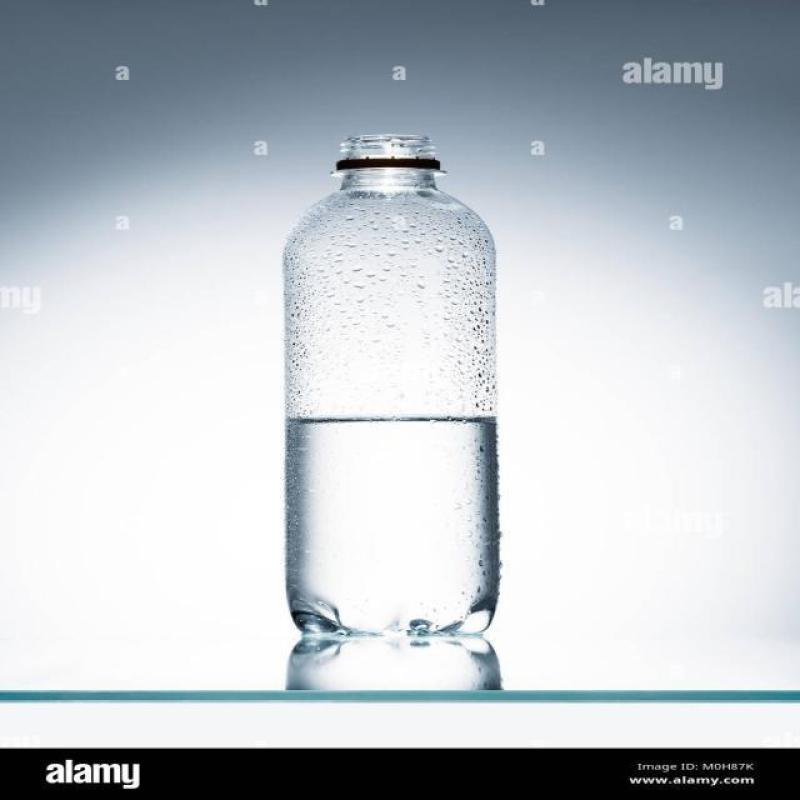botella: (272, 136, 526, 636)
